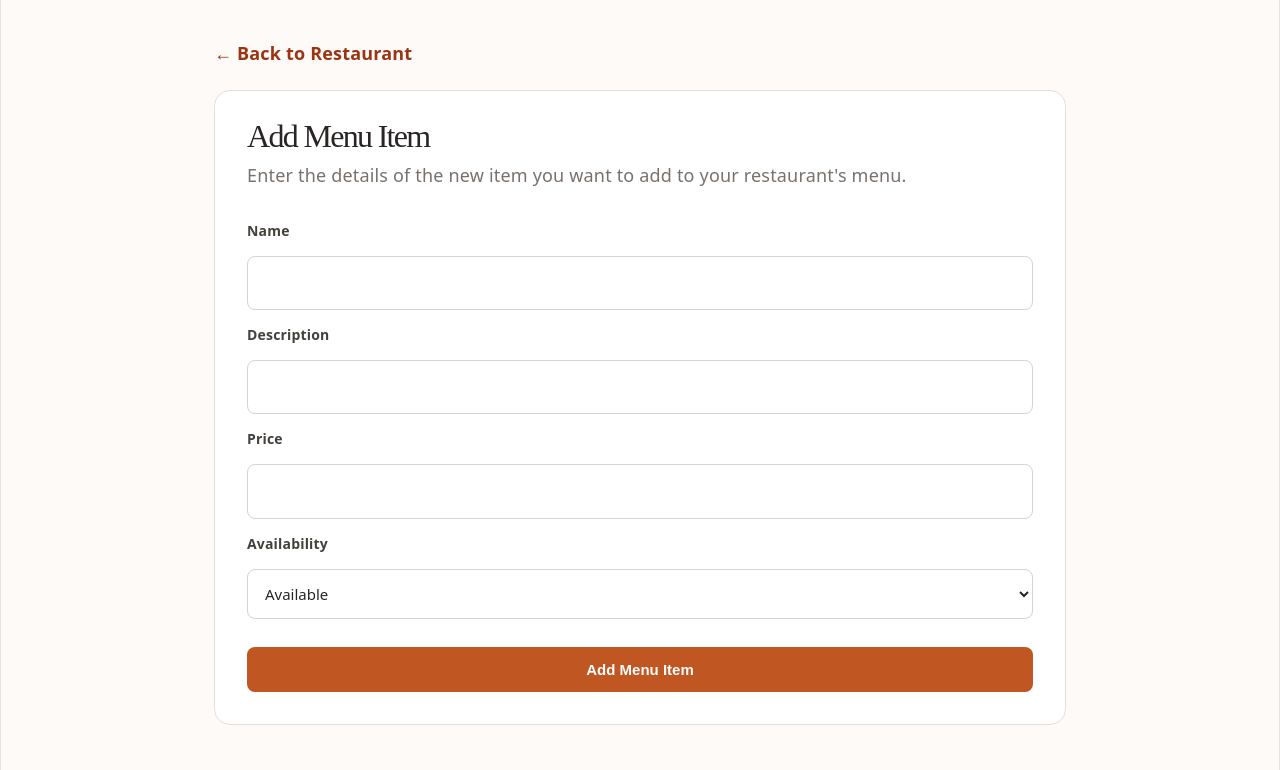
Scenario: owner adds a menu item to the selected restaurant
The image size is (1280, 770).
In the field labelled "Name": (640, 283) [247, 256, 1033, 310], type "Margherita Pizza"
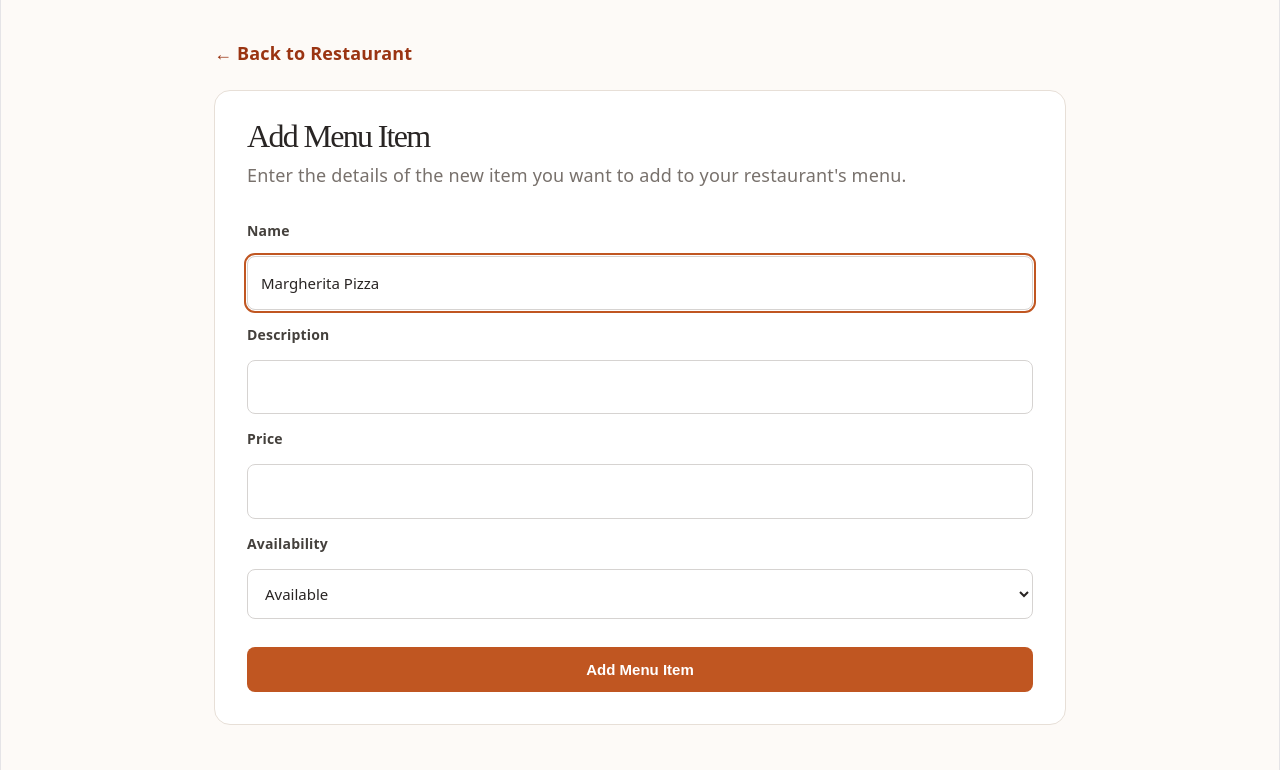
In the field labelled "Description": (640, 387) [247, 360, 1033, 414], type "Tomato and mozzarella"
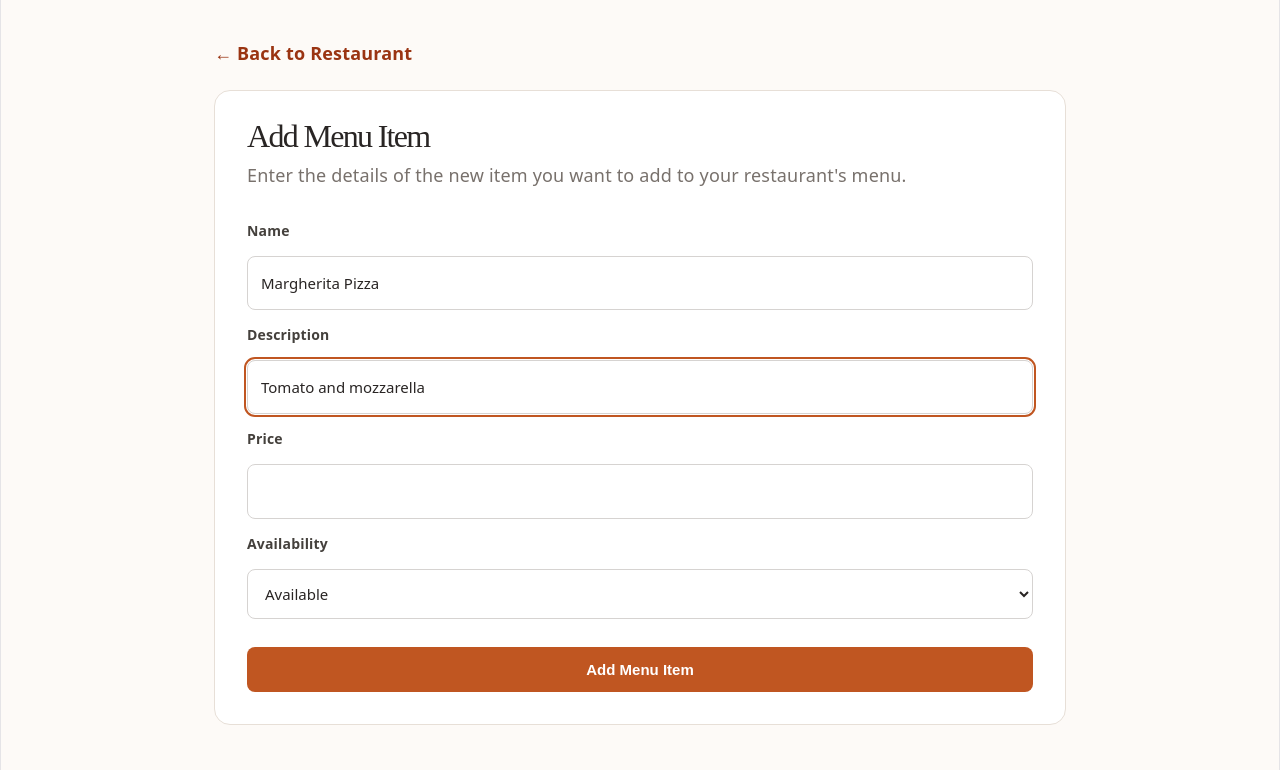
In the number field labelled "Price": (640, 492) [247, 464, 1033, 519], type "16.99"
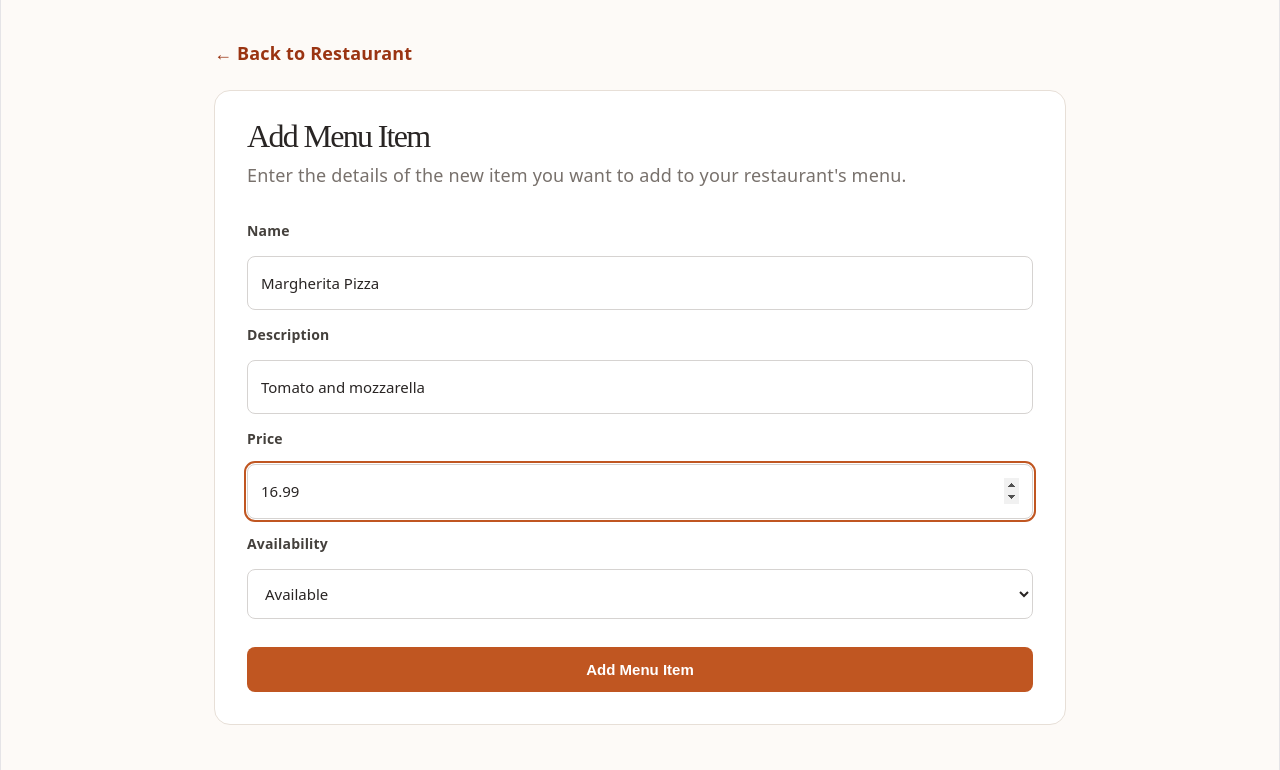
Click the button "Add Menu Item": (640, 669) [247, 647, 1033, 692]
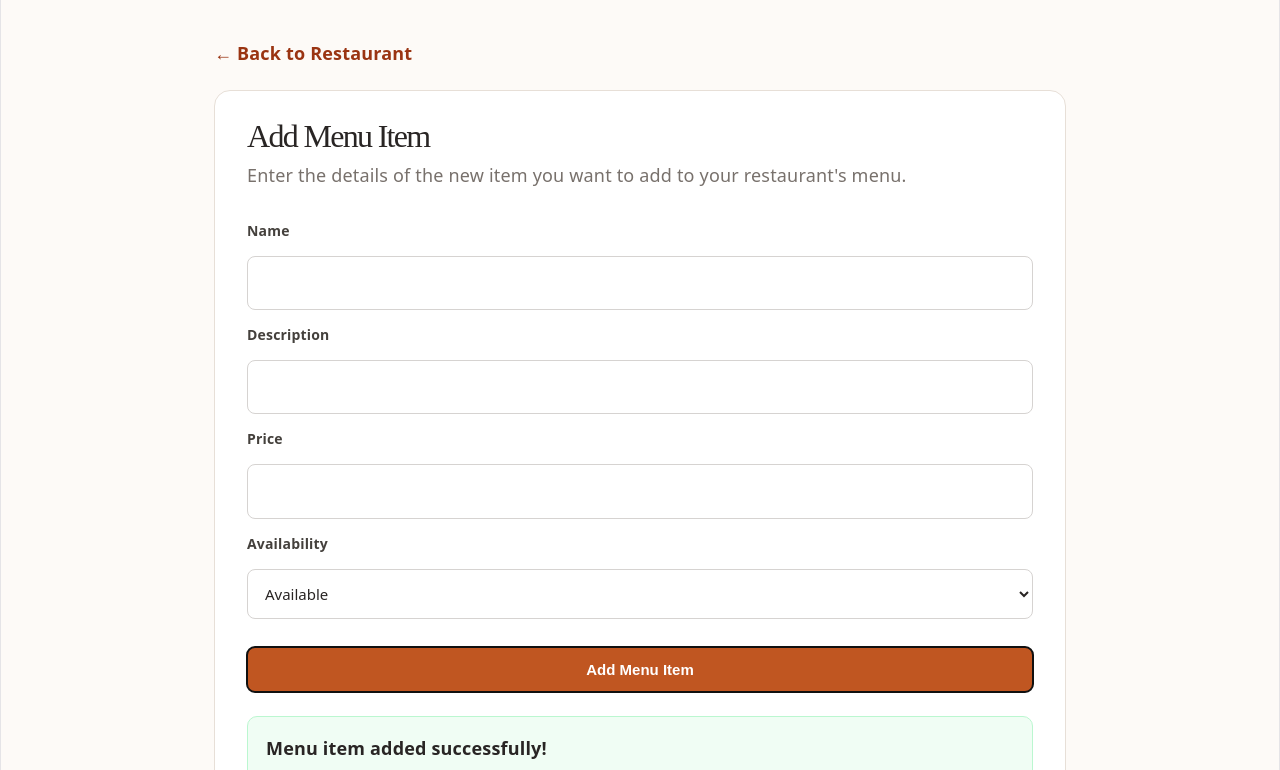
Now the text "Menu item added successfully!" is shown, box [266, 736, 547, 760]
